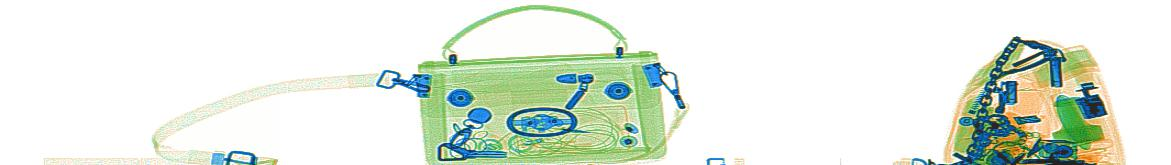seal: (1050, 93, 1106, 147)
